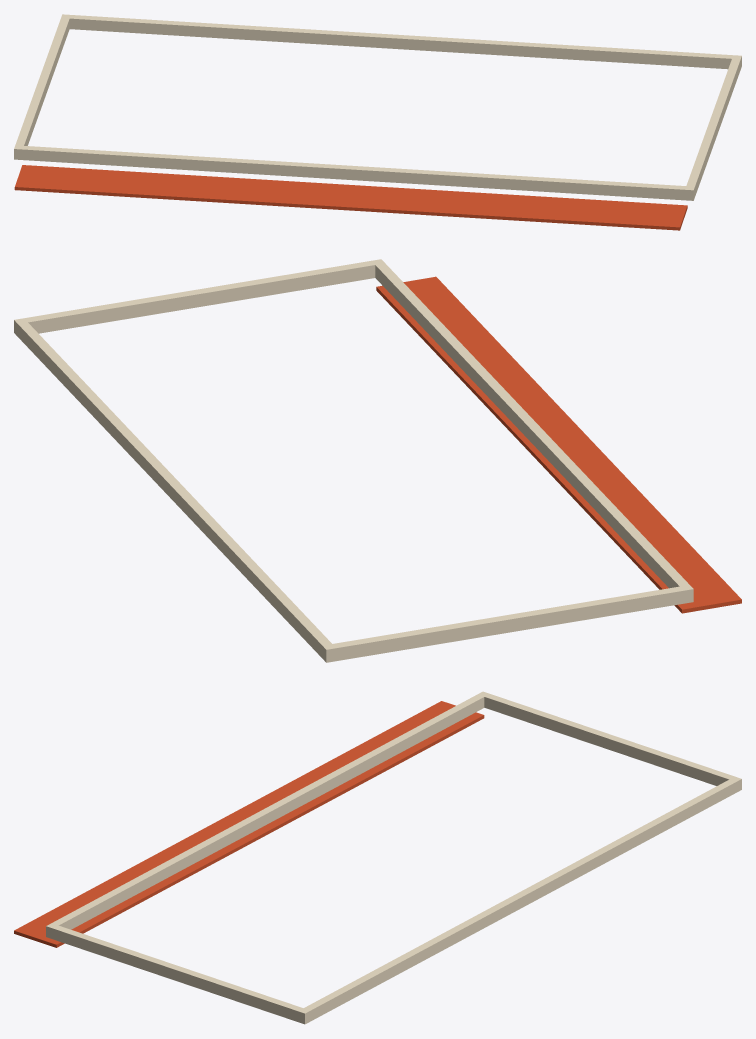
Rendered from hokka.glb.
3 views of the same model, one above another, from view 1: azimuth 30°, elevation 25°; view 2: azimuth 150°, elevation 25°; view 3: azimuth 270°, elevation 25° (orthographic). The views are drawn at different scales.
Visible parts, largest first — view 1: hokka; view 2: hokka; view 3: hokka.
Part boxes in pixels (<box>): hokka: <box>14,14,741,230</box>; hokka: <box>14,259,741,662</box>; hokka: <box>14,691,741,1024</box>.
Size of the model in its own units: 26.08 by 0.82 by 24.17.
